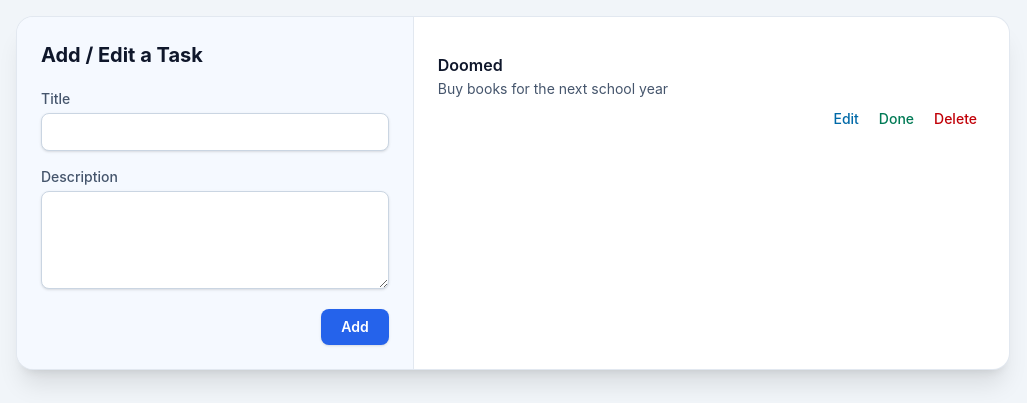
Scenario: App › leaves edit mode when the task being edited is deleted
Click the button with aria-label "edit doomed" at (846, 119), box [825,105,867,133]
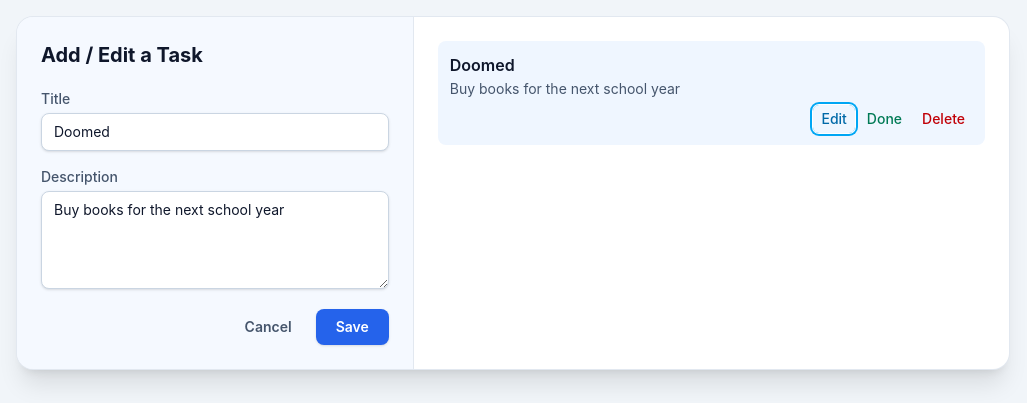
Click the button with aria-label "delete doomed" at (943, 119), box [914,105,973,133]
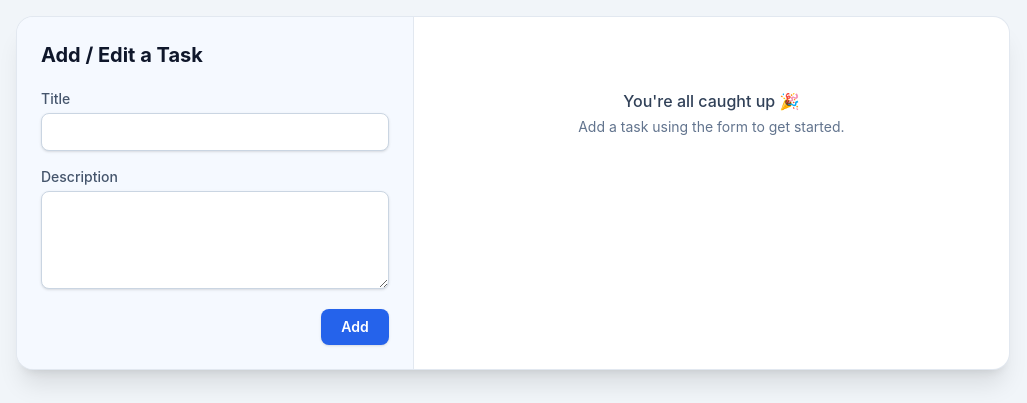
Expected: the button "Add" is shown, [321,309,389,345]
